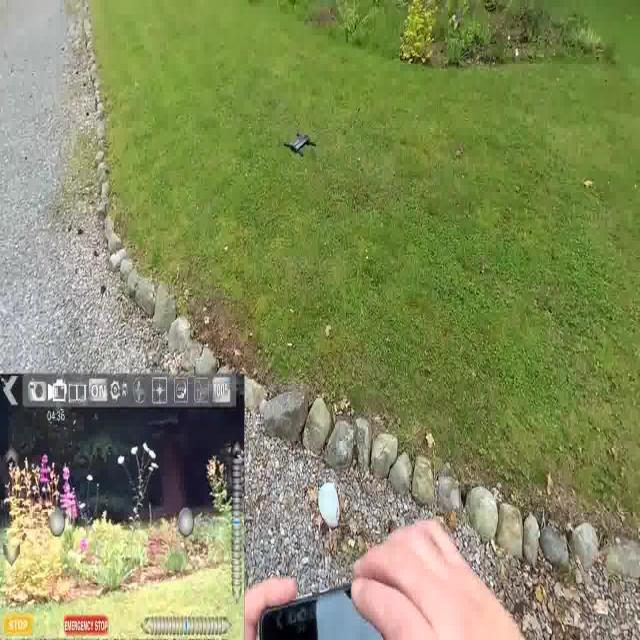drone: (282, 125, 316, 164)
